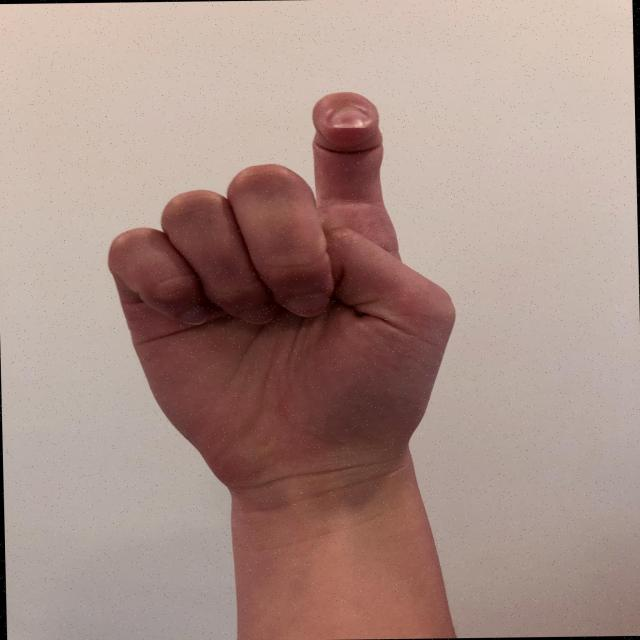X: (86, 80, 479, 501)
